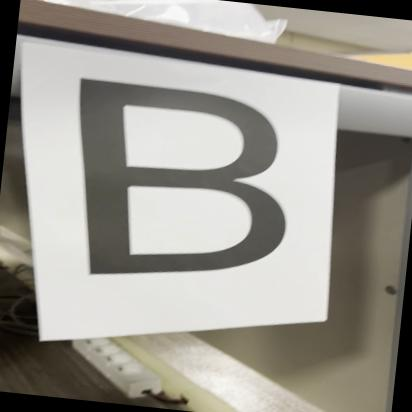seat: (56, 69, 316, 288)
